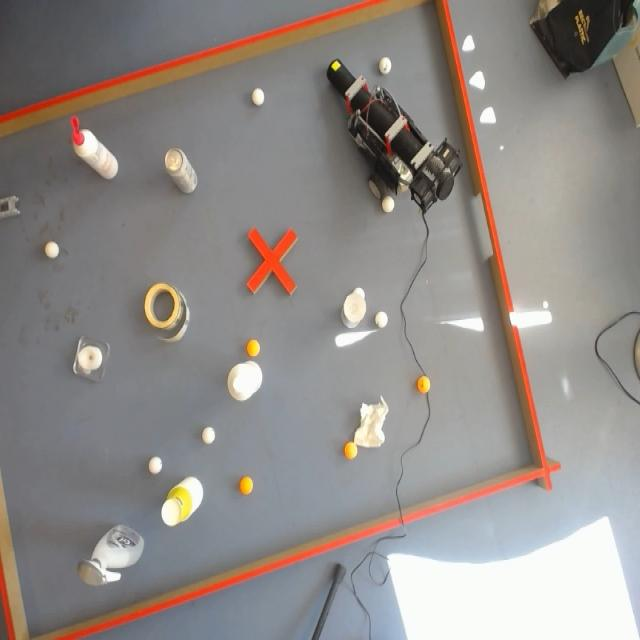orange: (416, 375, 432, 397), (238, 475, 254, 497), (246, 338, 262, 358), (343, 440, 358, 460)
robot: (326, 59, 462, 215)
robot-front: (329, 59, 342, 75)
white: (199, 424, 217, 447), (42, 240, 61, 261), (250, 86, 266, 110), (146, 455, 164, 476), (374, 310, 389, 330), (379, 57, 392, 75), (382, 196, 394, 213)
